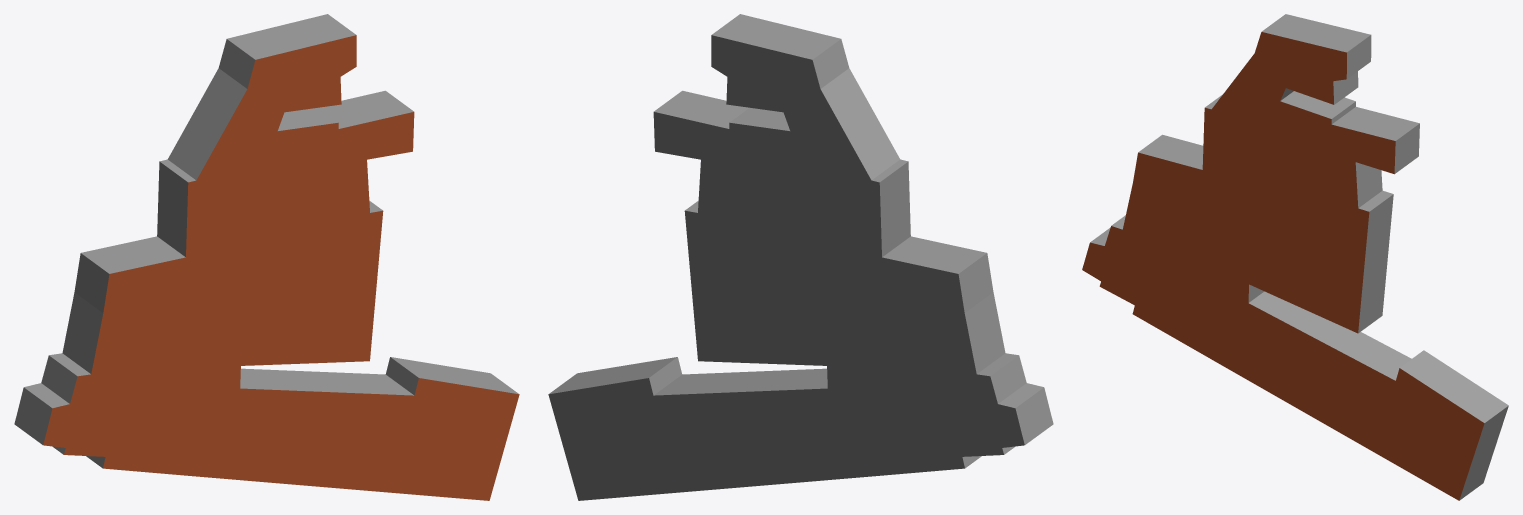
Rendered from construction_7057_assumed_A_Casa_h6m.obj.
3 views of the same model, side by side, from view 1: azimuth 30°, elevation 25°; view 2: azimuth 150°, elevation 25°; view 3: azimuth 330°, elevation 25° (orthographic). The views are drawn at different scales.
Visible parts, largest first — view 1: construction_7057_assumed_A_Casa; view 2: construction_7057_assumed_A_Casa; view 3: construction_7057_assumed_A_Casa.
Part boxes in pixels (x1,y1,x2,y2): construction_7057_assumed_A_Casa: [14, 14, 519, 500]; construction_7057_assumed_A_Casa: [548, 14, 1053, 500]; construction_7057_assumed_A_Casa: [1082, 14, 1508, 500].
Bounding box in the file's own units: 57.29 × 57.26 × 6.
